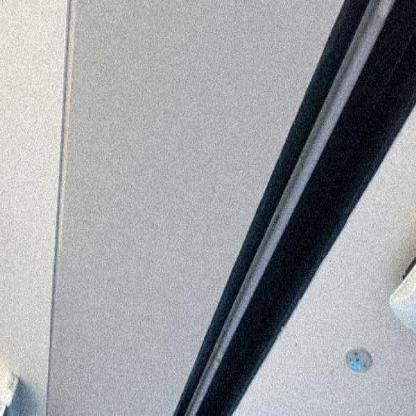light_off: (172, 0, 408, 415)
